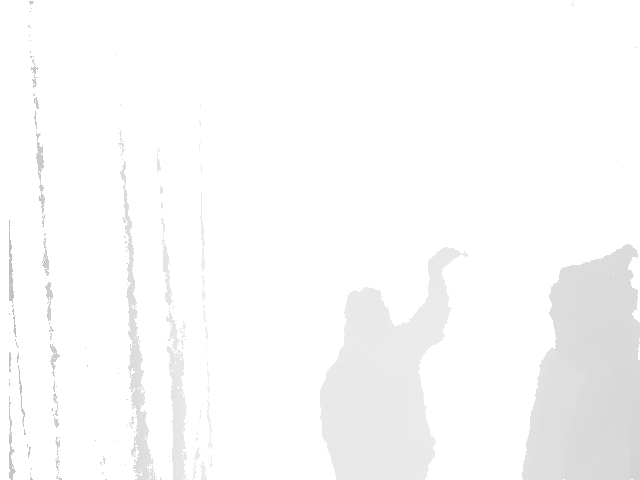hand: (427, 247, 469, 271)
head: (548, 245, 640, 345), (344, 289, 392, 342)
person: (317, 247, 469, 480), (519, 245, 640, 480)
